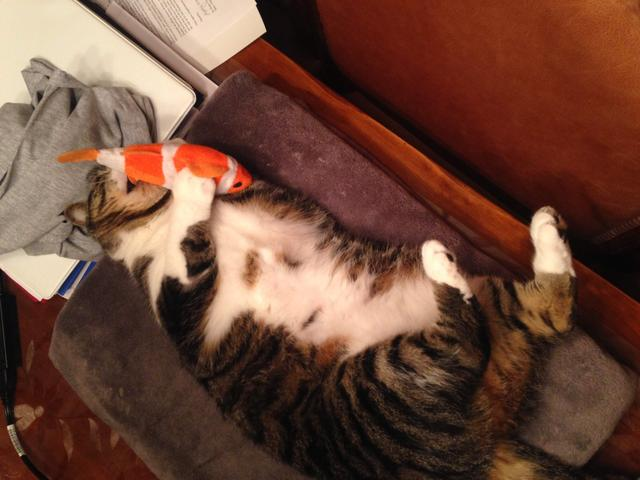clownfish: (57, 141, 252, 193)
playdoh: (60, 164, 578, 480)
